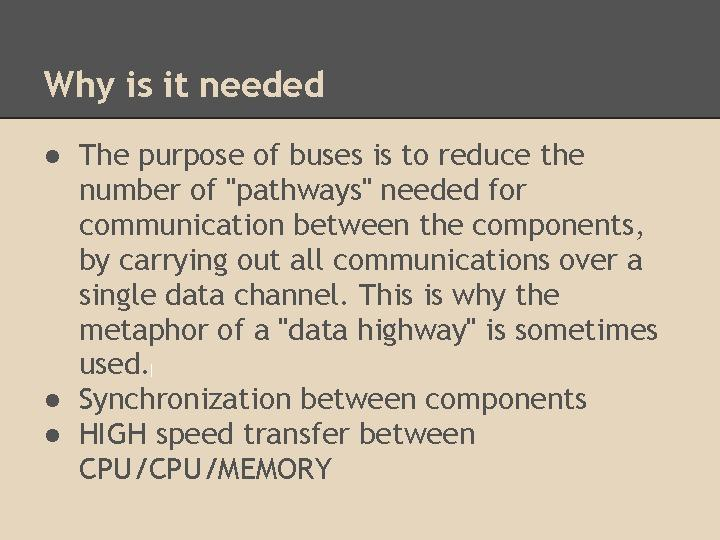paragraph: (30, 131, 694, 501)
title: (35, 60, 335, 110)
